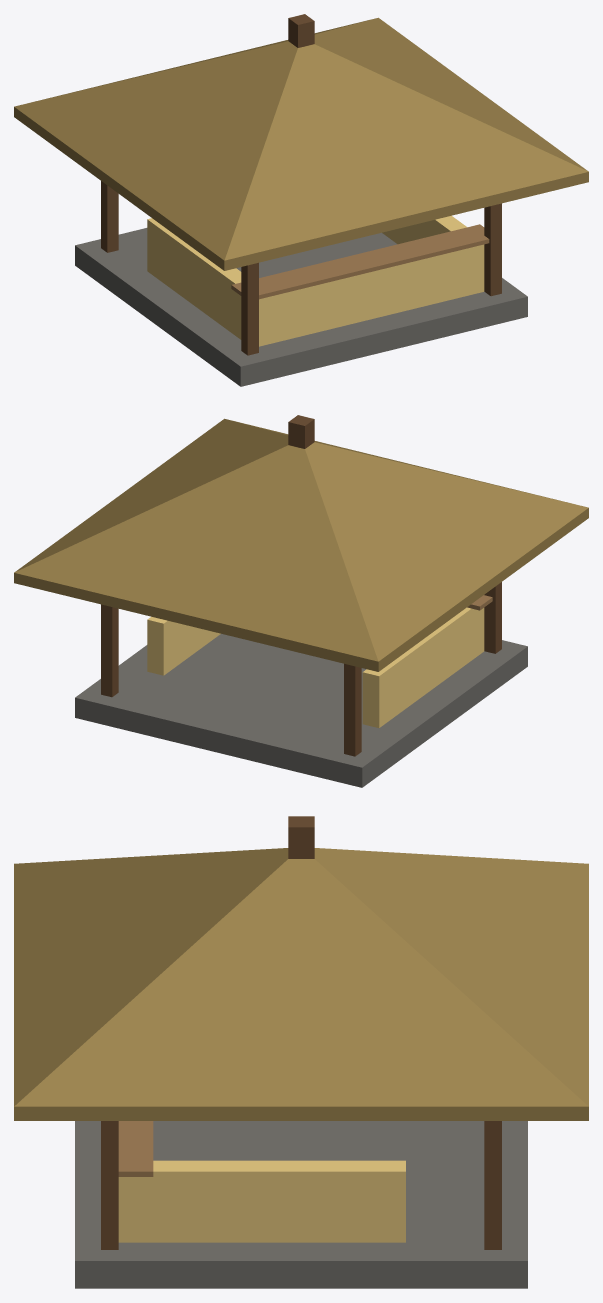
The model's file is quiosque_b.glb.
3 views of the same model, one above another, from view 1: azimuth 30°, elevation 25°; view 2: azimuth 150°, elevation 25°; view 3: azimuth 270°, elevation 25° (orthographic). The views are drawn at different scales.
Visible parts, largest first — view 1: quiosque_b; view 2: quiosque_b; view 3: quiosque_b.
Part boxes in pixels (x1,y1,x2,y2): quiosque_b: (14,14,588,386); quiosque_b: (14,415,588,787); quiosque_b: (14,816,588,1288).
Size of the model in its own units: 6.6 by 4.7 by 6.6.
